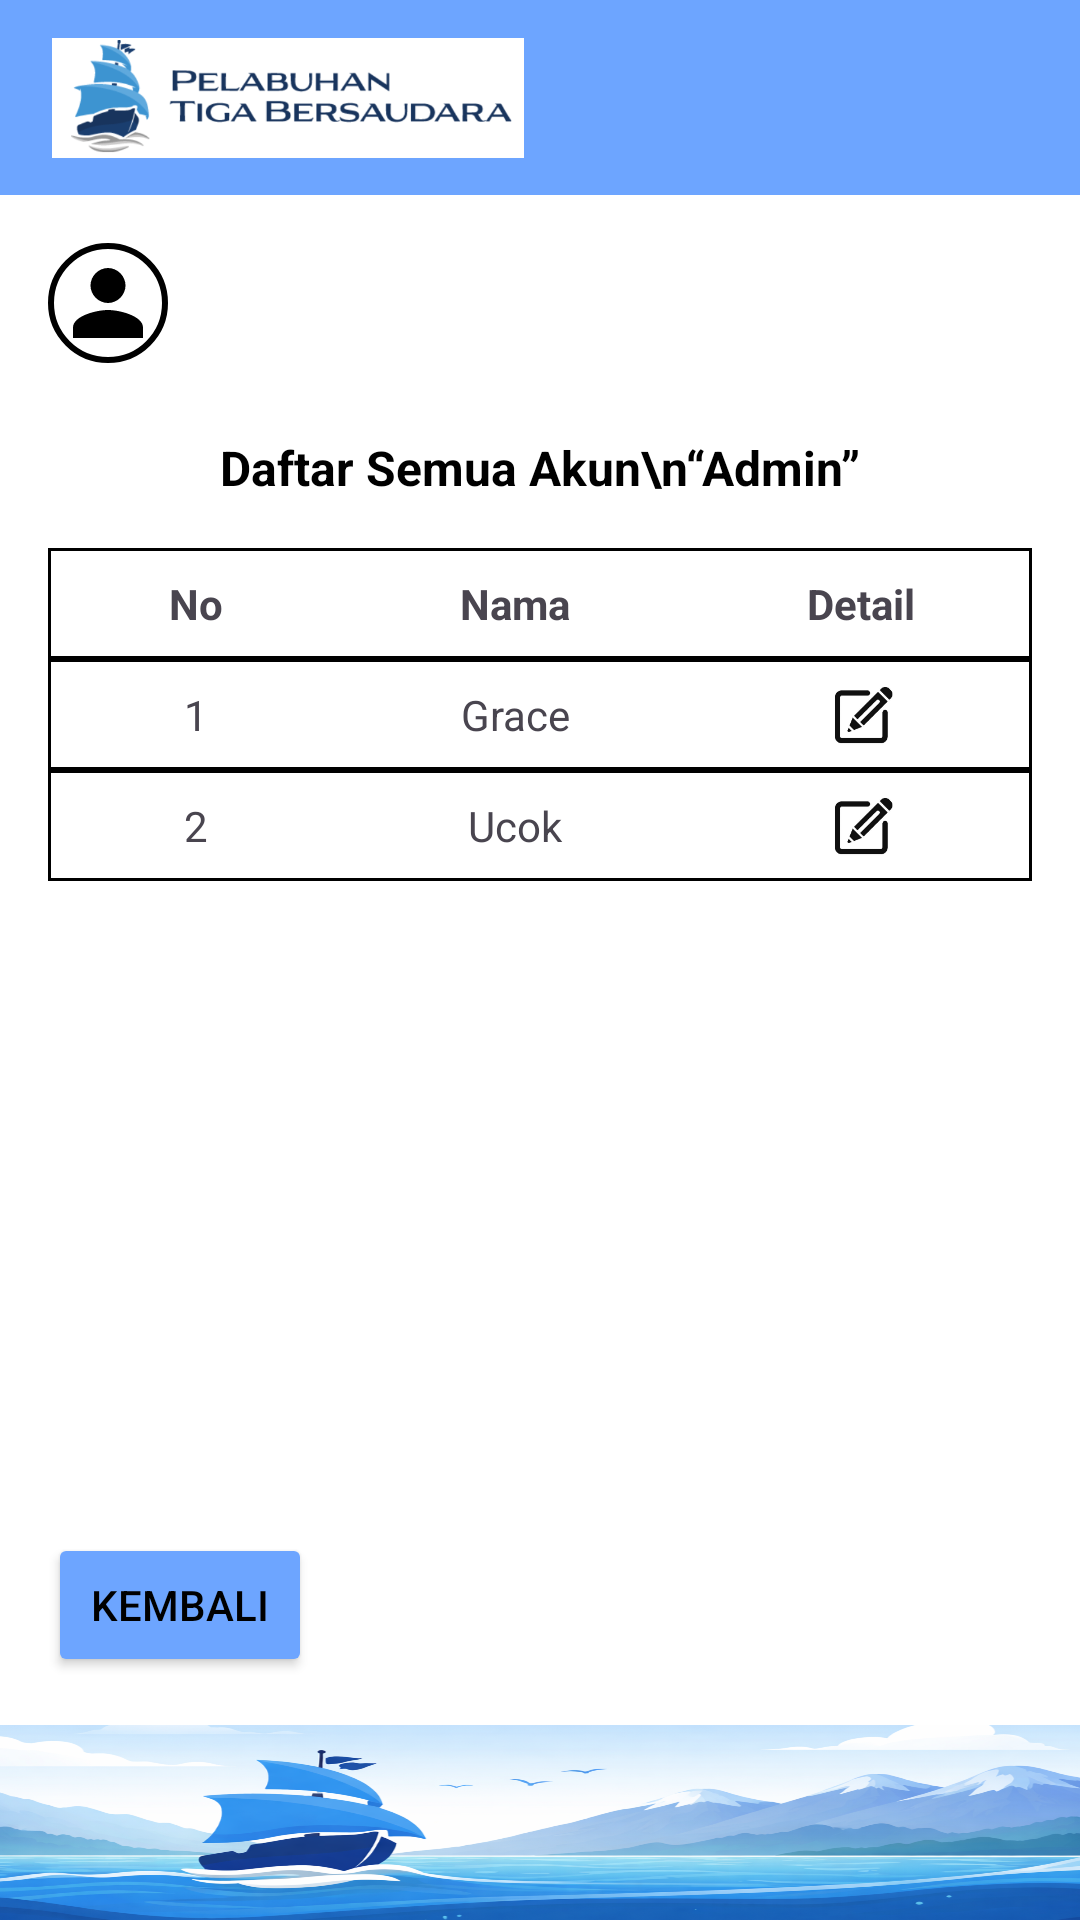

Where to tap for icons on this 1080×1920 app screen, as (x,y):
profile: (108,303)
